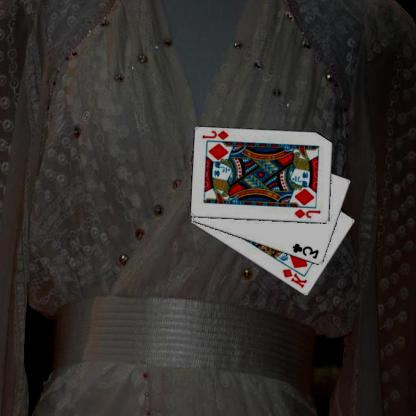3C: (292, 241, 322, 260)
JD: (294, 206, 324, 219), (202, 128, 232, 141)
KD: (282, 266, 310, 289)
